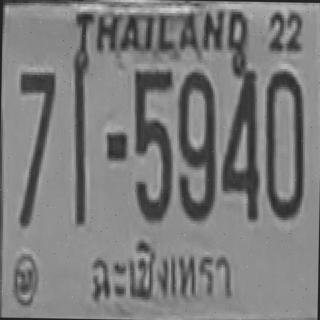N00: (263, 70, 304, 219)
N04: (220, 62, 260, 220)
N05: (132, 68, 172, 154)
N07: (17, 69, 54, 195), (18, 69, 54, 170)
N09: (175, 69, 215, 218)
P07: (86, 227, 236, 313)
